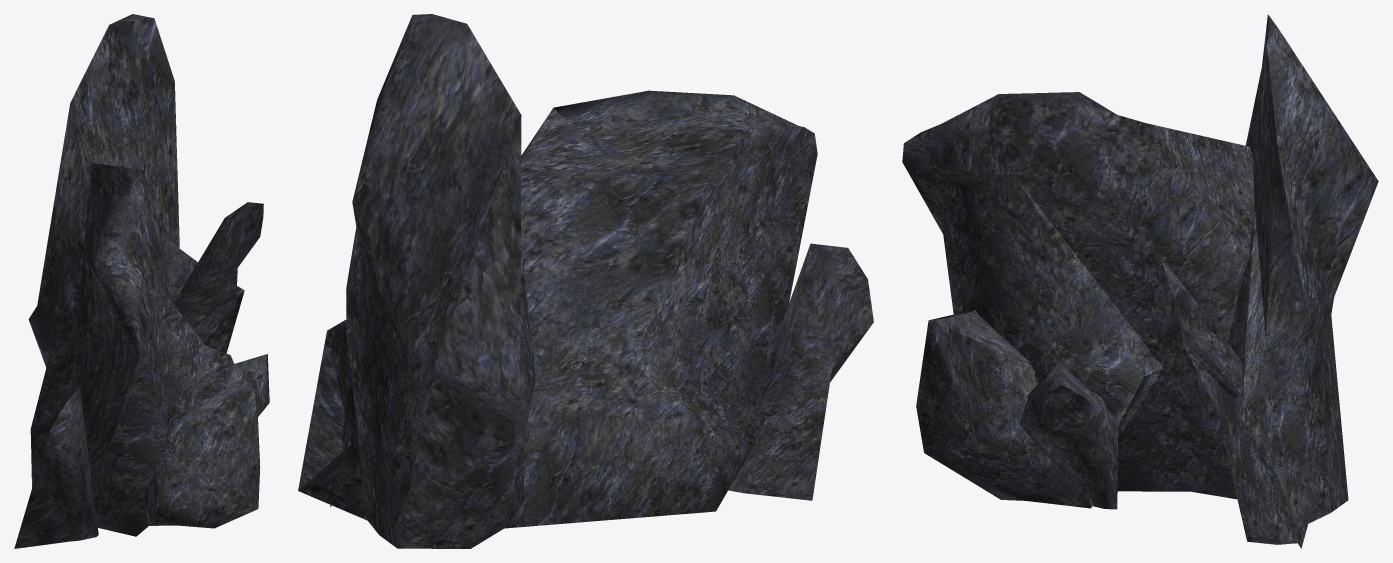
Rendered from pir_m_prp_vol_rockGroup_b.fbx.
3 renders of one model, left to right at view 1: azimuth 30°, elevation 25°; view 2: azimuth 150°, elevation 25°; view 3: azimuth 270°, elevation 25°, orthographic. The views are drawn at different scales.
Visible parts, largest first — view 1: bigrock2, small_rock4, bigrock, small_rock3, small_rock5, middle_rock1; view 2: bigrock2, small_rock4, small_rock3; view 3: bigrock2, small_rock4, bigrock, small_rock5, middle_rock1.
Part boxes in pixels (x1=…): bigrock2: x1=30, y1=163, x2=234, y2=536; small_rock4: x1=28, y1=14, x2=244, y2=367; bigrock: x1=144, y1=378, x2=260, y2=528; small_rock3: x1=14, y1=387, x2=98, y2=548; small_rock5: x1=173, y1=202, x2=263, y2=352; middle_rock1: x1=226, y1=354, x2=269, y2=416; bigrock2: x1=504, y1=90, x2=817, y2=528; small_rock4: x1=298, y1=14, x2=535, y2=548; small_rock3: x1=728, y1=243, x2=873, y2=500; bigrock2: x1=902, y1=92, x2=1254, y2=499; small_rock4: x1=1228, y1=14, x2=1378, y2=548; bigrock: x1=916, y1=310, x2=1092, y2=508; small_rock5: x1=1162, y1=261, x2=1297, y2=544; middle_rock1: x1=1019, y1=361, x2=1118, y2=509.
Bounding box in the file's own units: 5957 × 7256 × 6511.
Materials: 1 (1 with a texture image).
